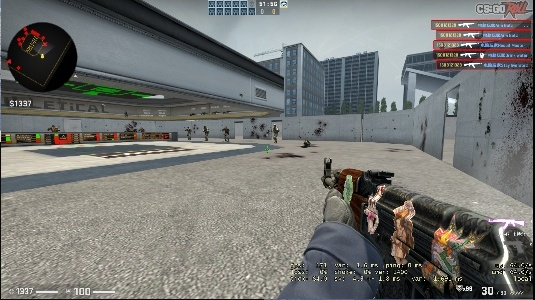body: (271, 124, 279, 143), (223, 126, 231, 142), (185, 127, 193, 141), (48, 124, 59, 133), (203, 126, 209, 141), (139, 126, 145, 133)
head: (51, 123, 56, 128), (273, 124, 277, 129), (187, 125, 190, 131), (140, 125, 143, 130), (204, 125, 207, 129), (225, 126, 228, 130)
